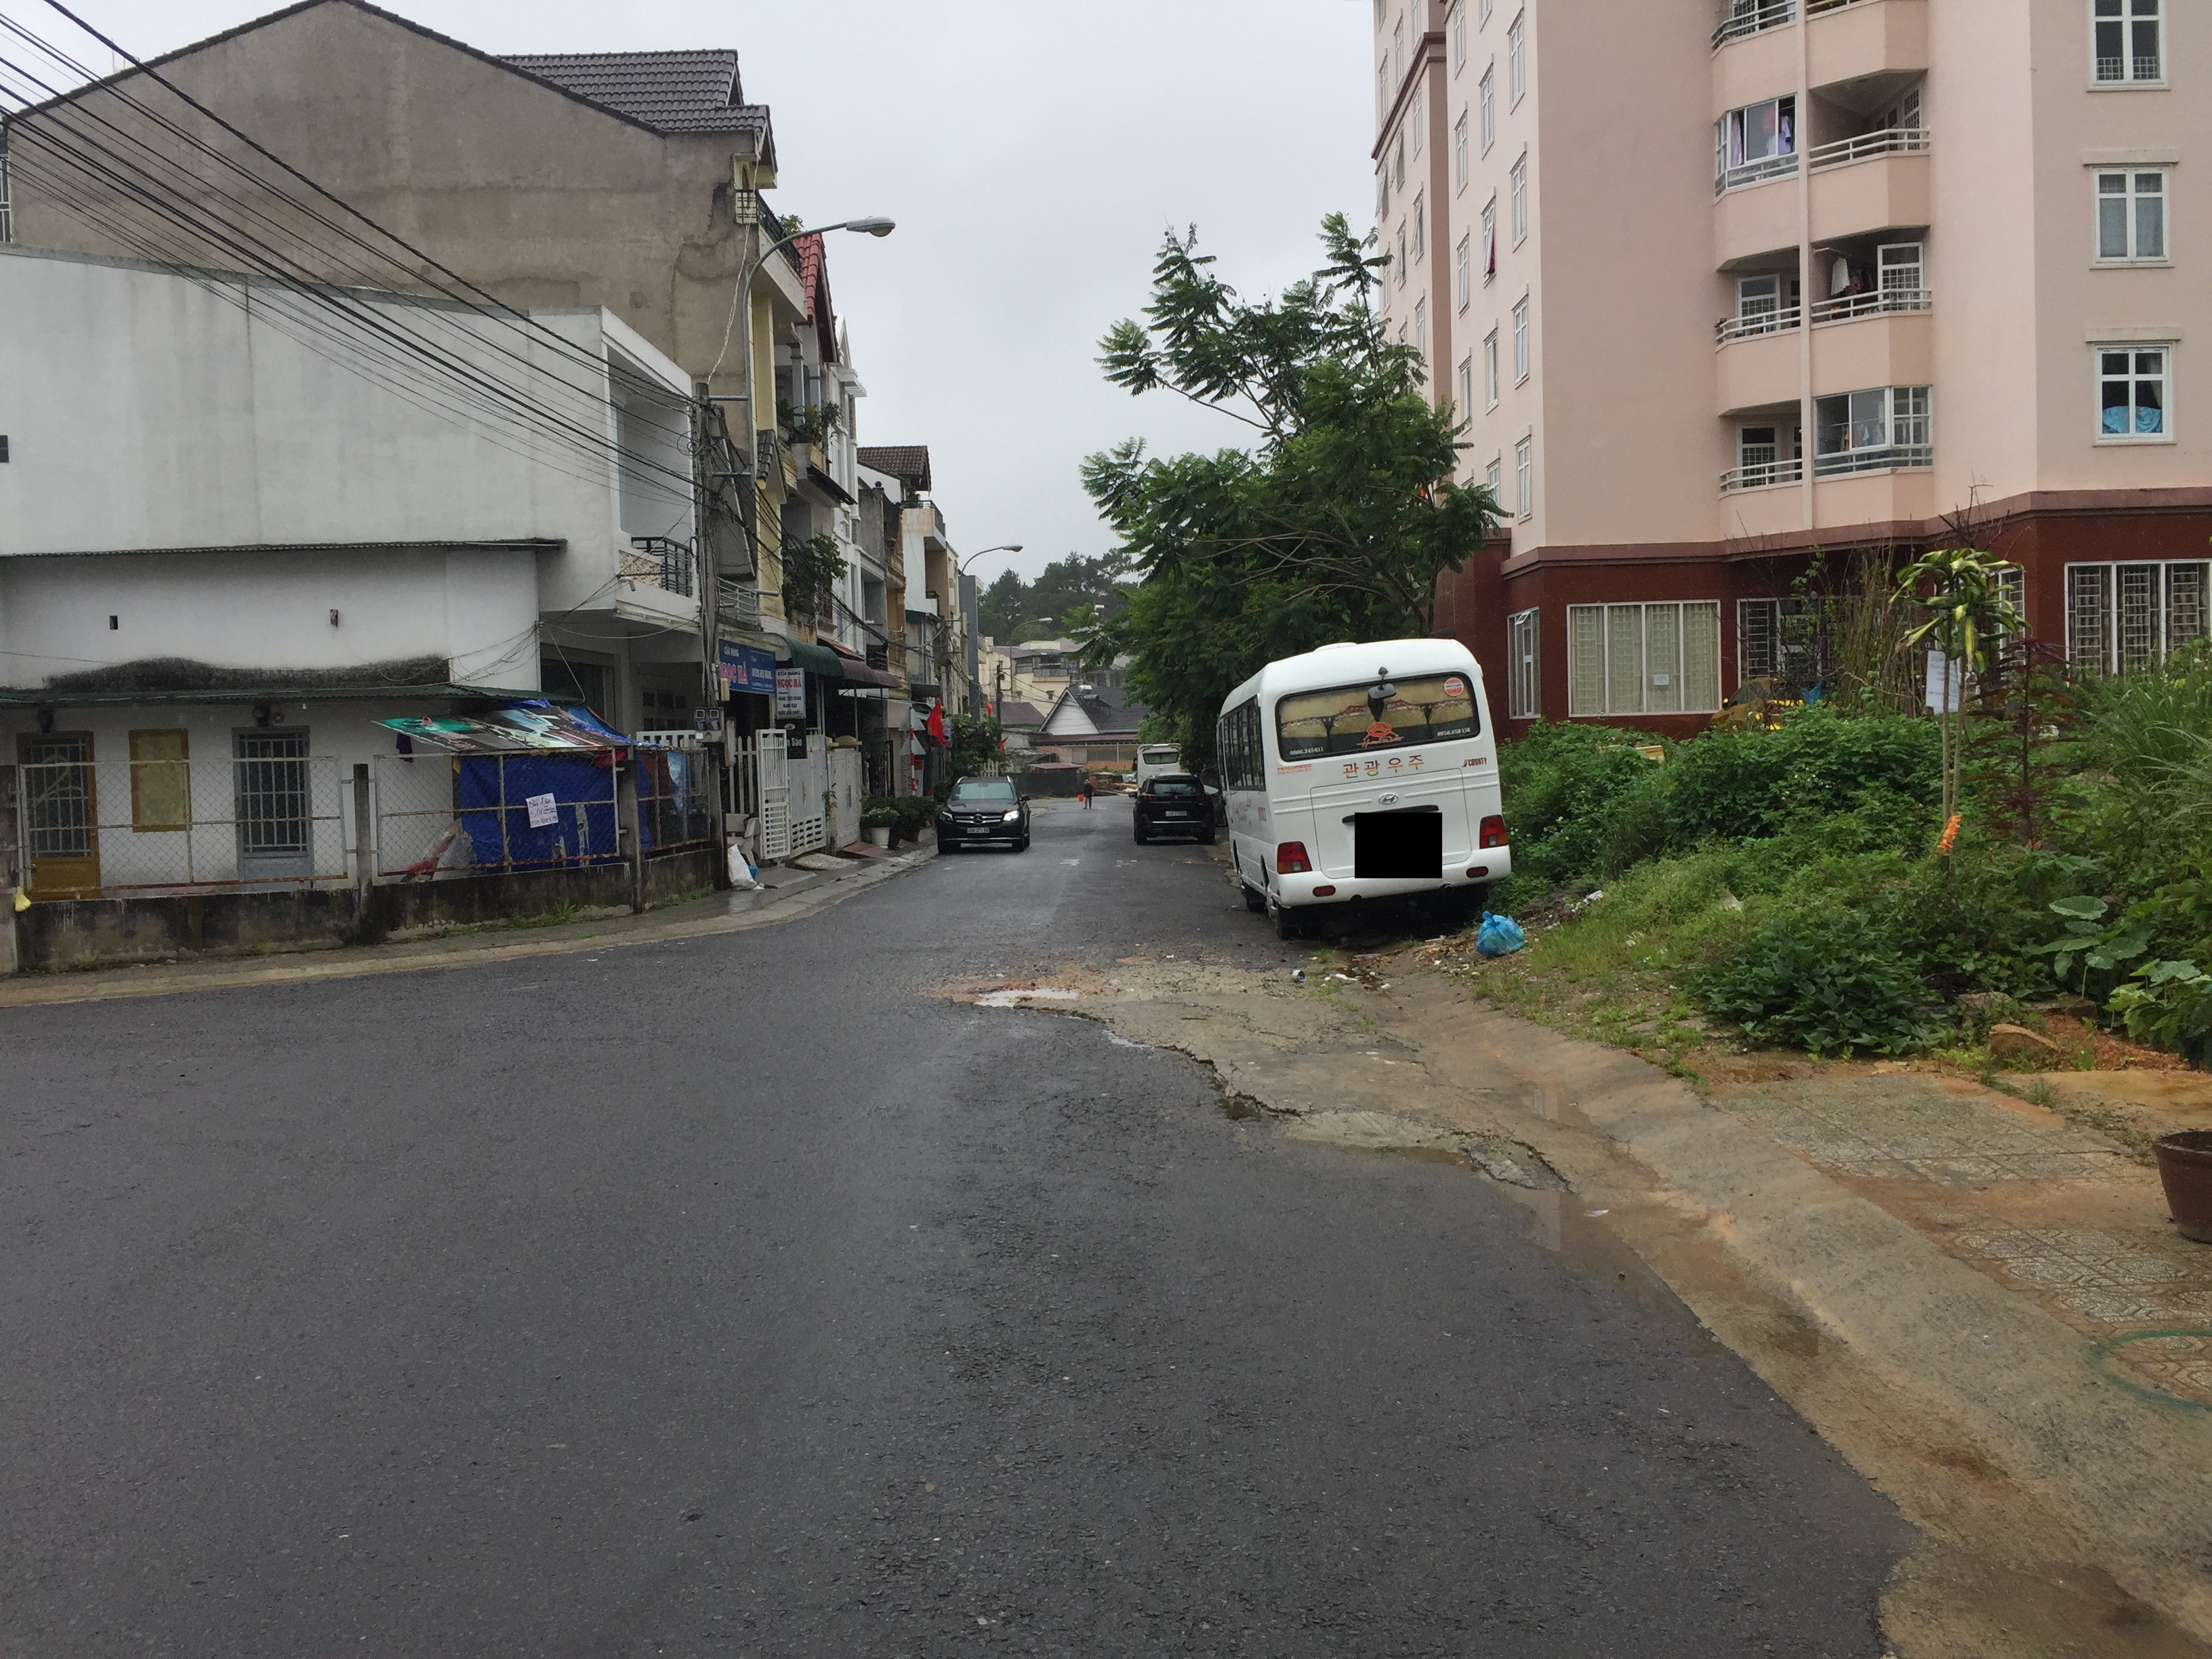hole: (944, 983, 1087, 1014), (1207, 1091, 1294, 1131)
